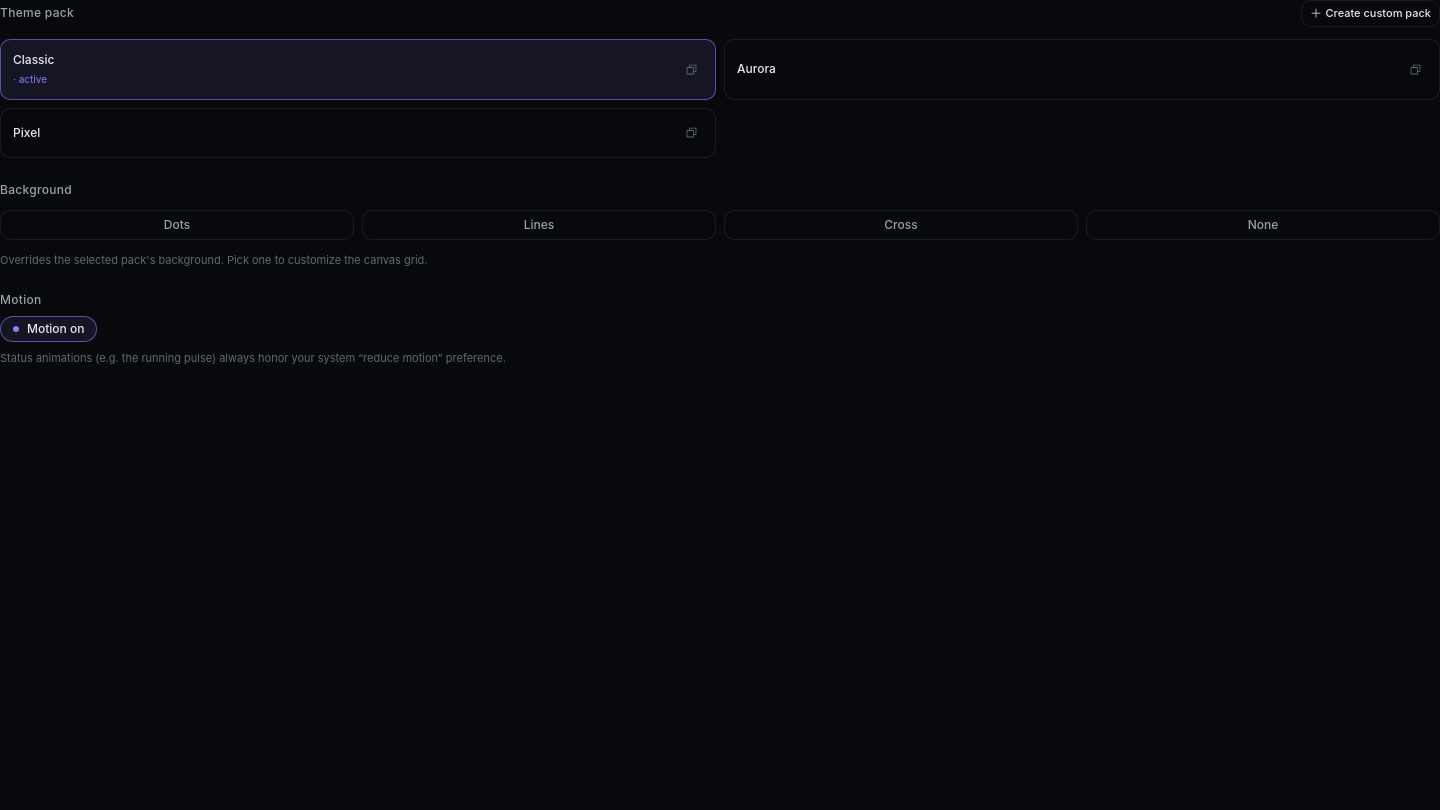
Scenario: AppearanceSettings › opens the custom pack builder
What coordinates should you click on to do the following:
click the button "Create custom pack"
I would click on:
 (1370, 13)
Its box is [1300,0,1439,26].
(page scrolled)
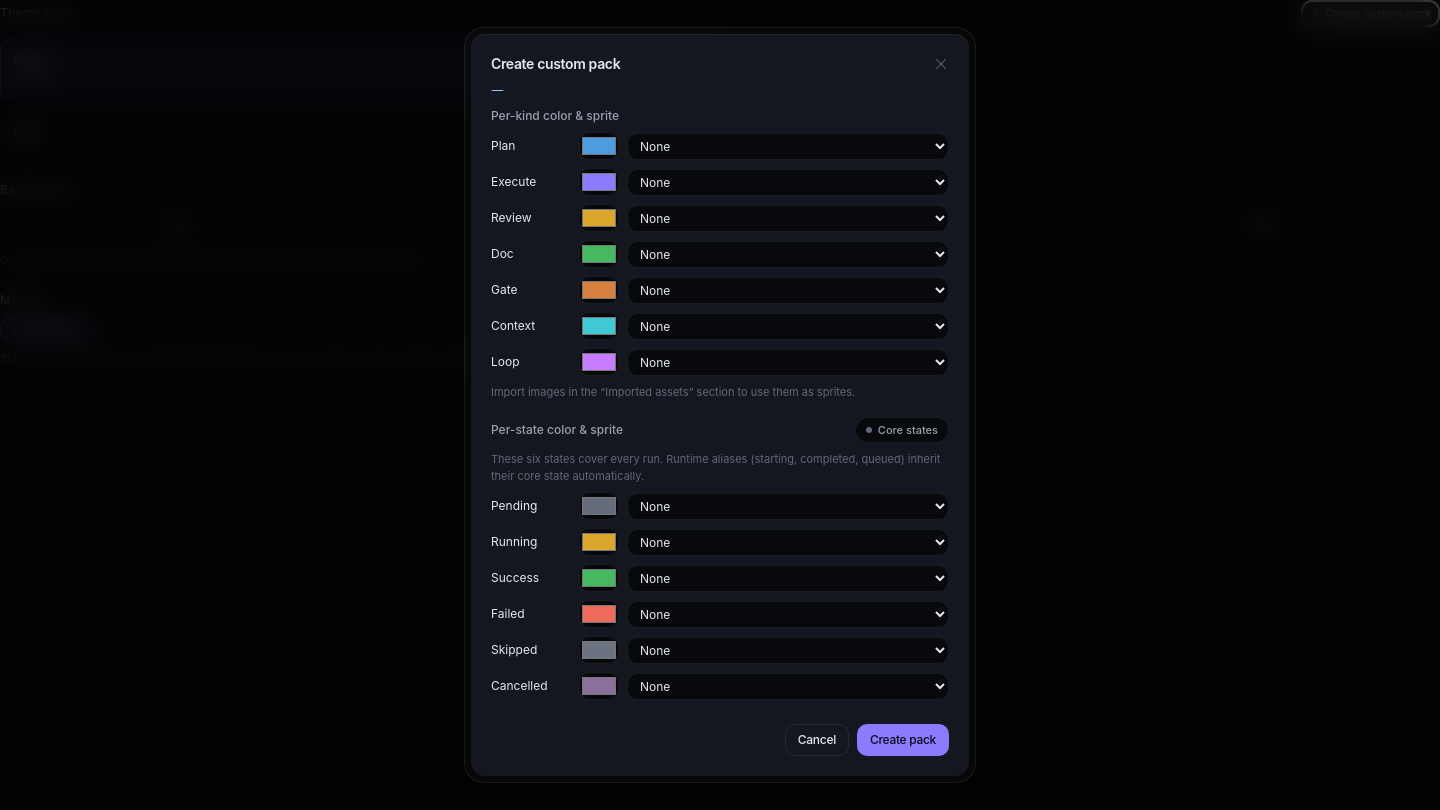
expect the button "Create pack" is shown: met, box [857,724,949,756]
